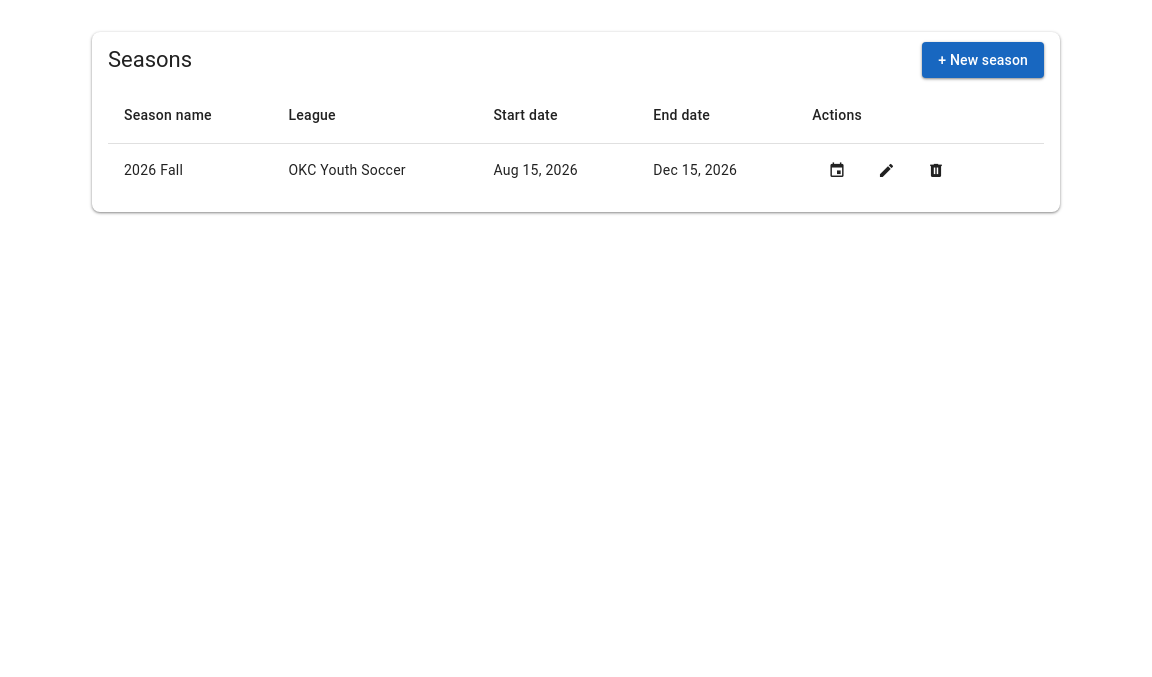
Test: Feature 2 — Season Management › US-2.5 — Edit a season › User selects to edit a season
The image size is (1152, 677).
Step 1. Click the button named "Edit season" → (887, 171), box [878, 162, 895, 180]
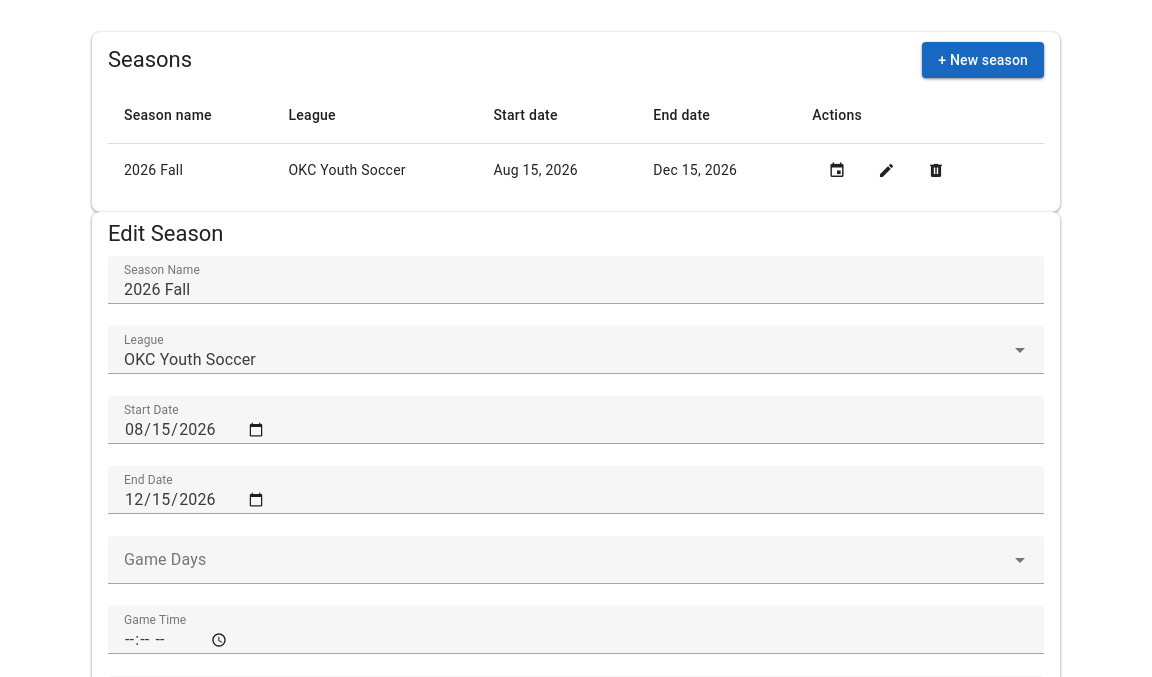
Check: the text "Edit Season" is shown, box [108, 221, 224, 246]
